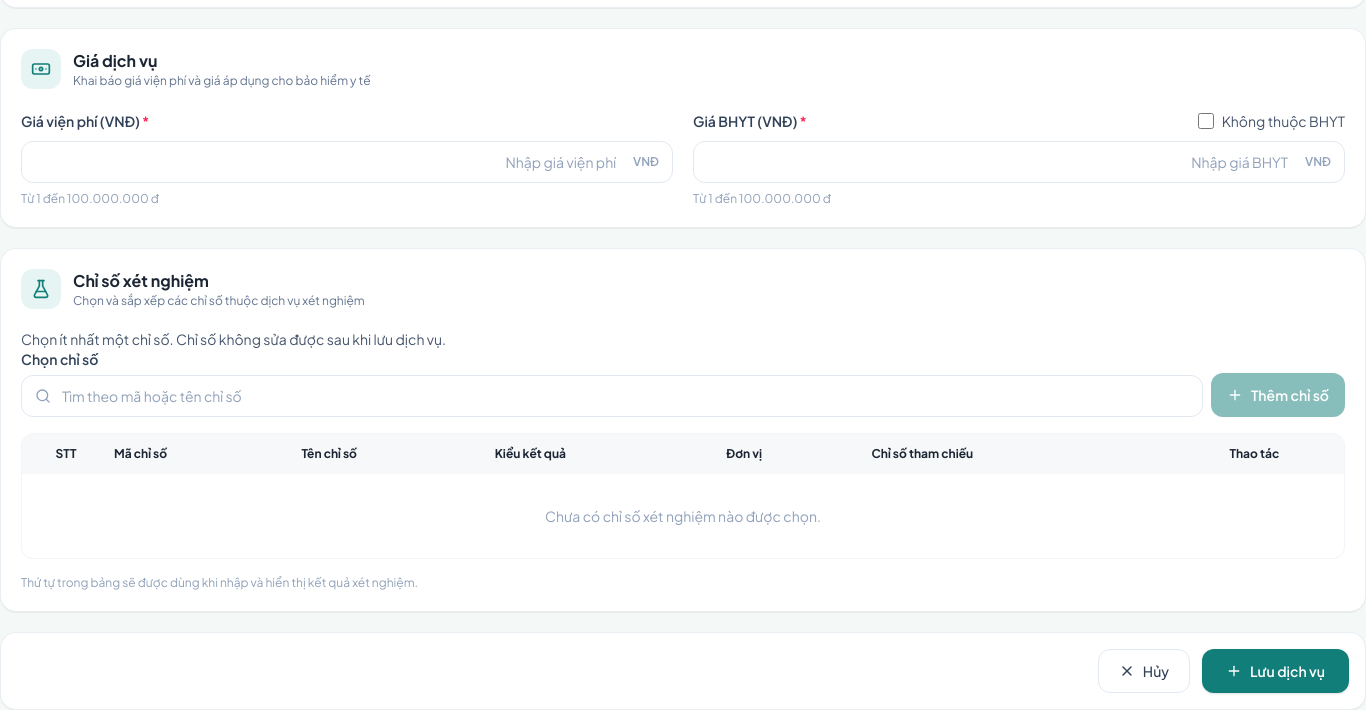
Test case: ServiceCreateView cancel (UC-22 AF-04) › shows MSG02 under the empty required fields
(page scrolled)
Click the button "Lưu dịch vụ".
click(1276, 671)  # box [1202,649,1349,693]
(page scrolled)
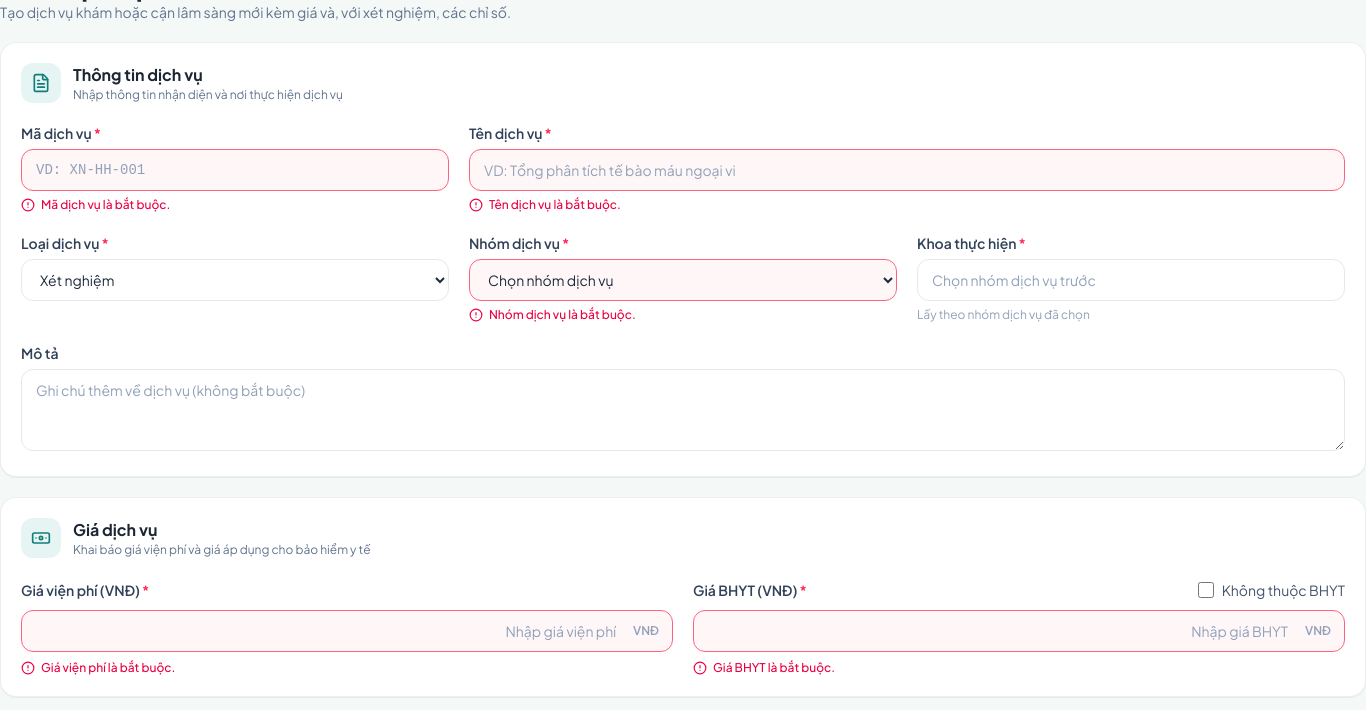
Expected: the text "Mã dịch vụ là bắt buộc." is shown, [41,197,170,213]
Expected: the text "Tên dịch vụ là bắt buộc." is shown, [489,197,621,213]
